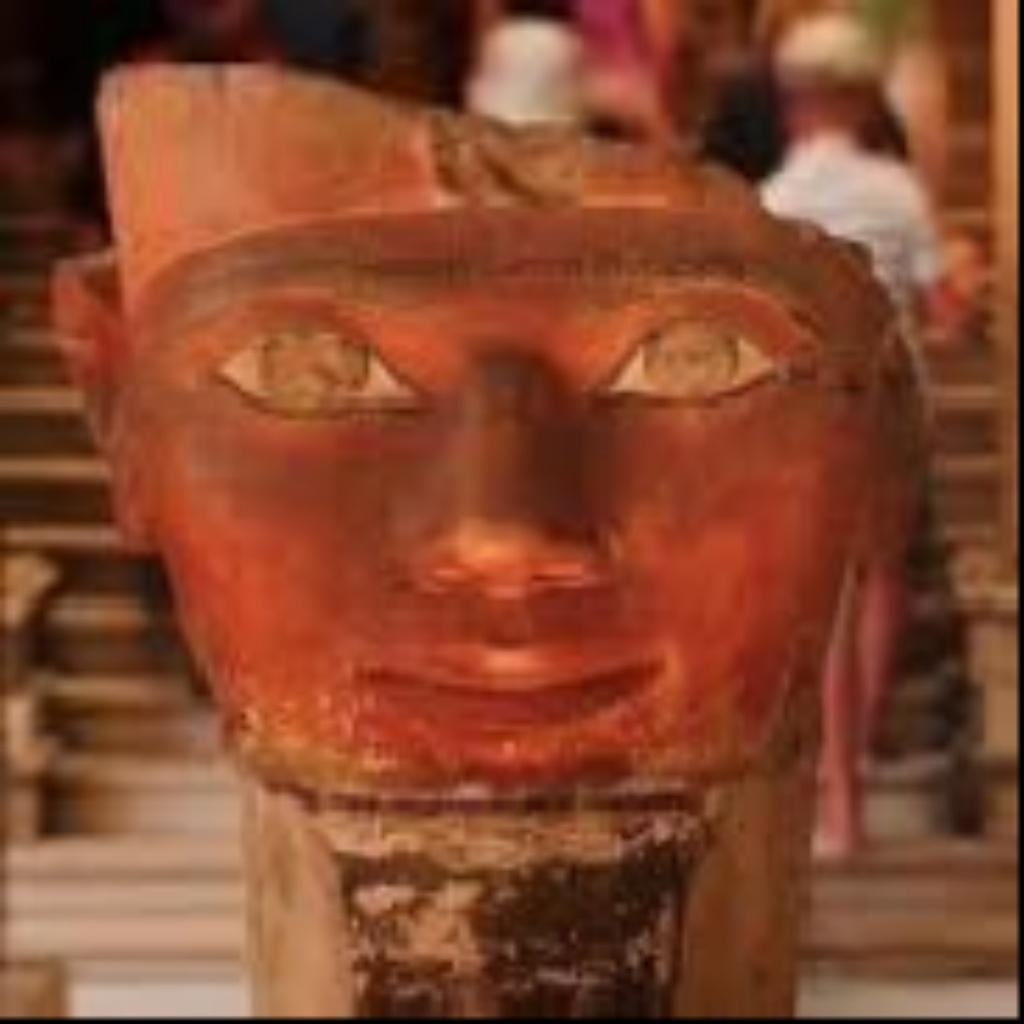Hatshepsut face: (44, 52, 924, 1012)
